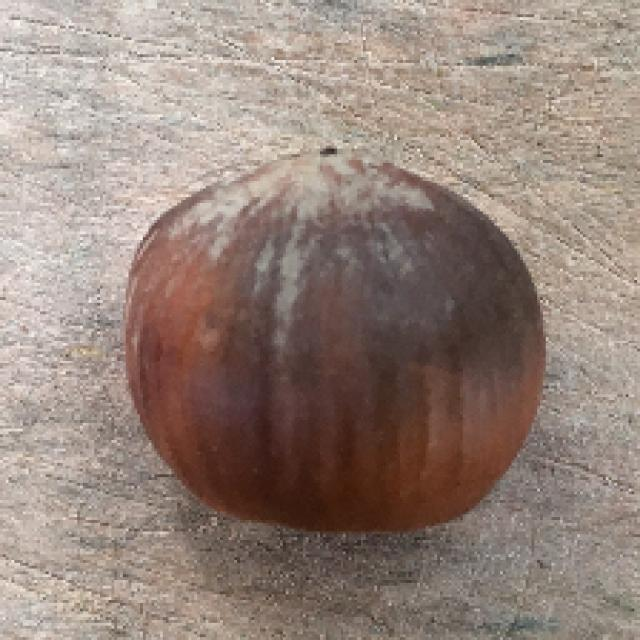damagedHazelnut: (121, 143, 561, 529)
